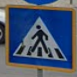trecere_pietoni: (5, 3, 75, 71)
